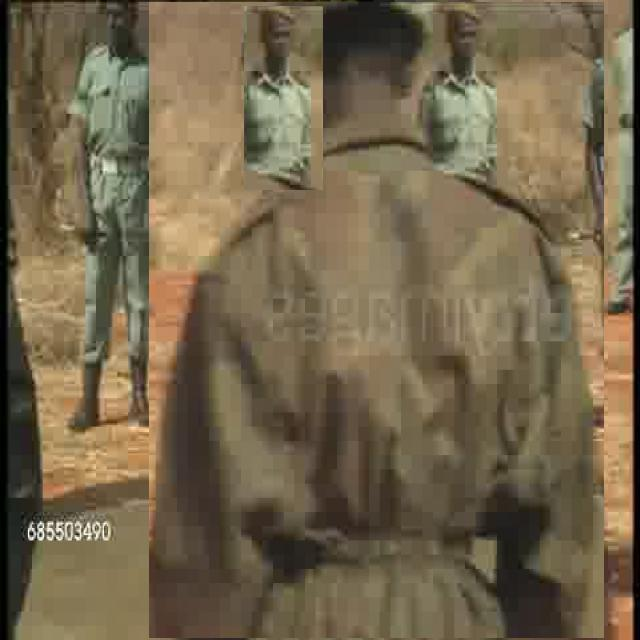poacher: (149, 2, 604, 638), (78, 2, 166, 430), (244, 6, 323, 190)
